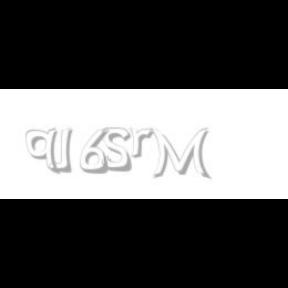6: (80, 128, 108, 176)
J: (48, 128, 72, 172)
M: (150, 128, 208, 180)
S: (102, 128, 132, 172)
q: (25, 128, 61, 176)
r: (130, 128, 156, 158)
